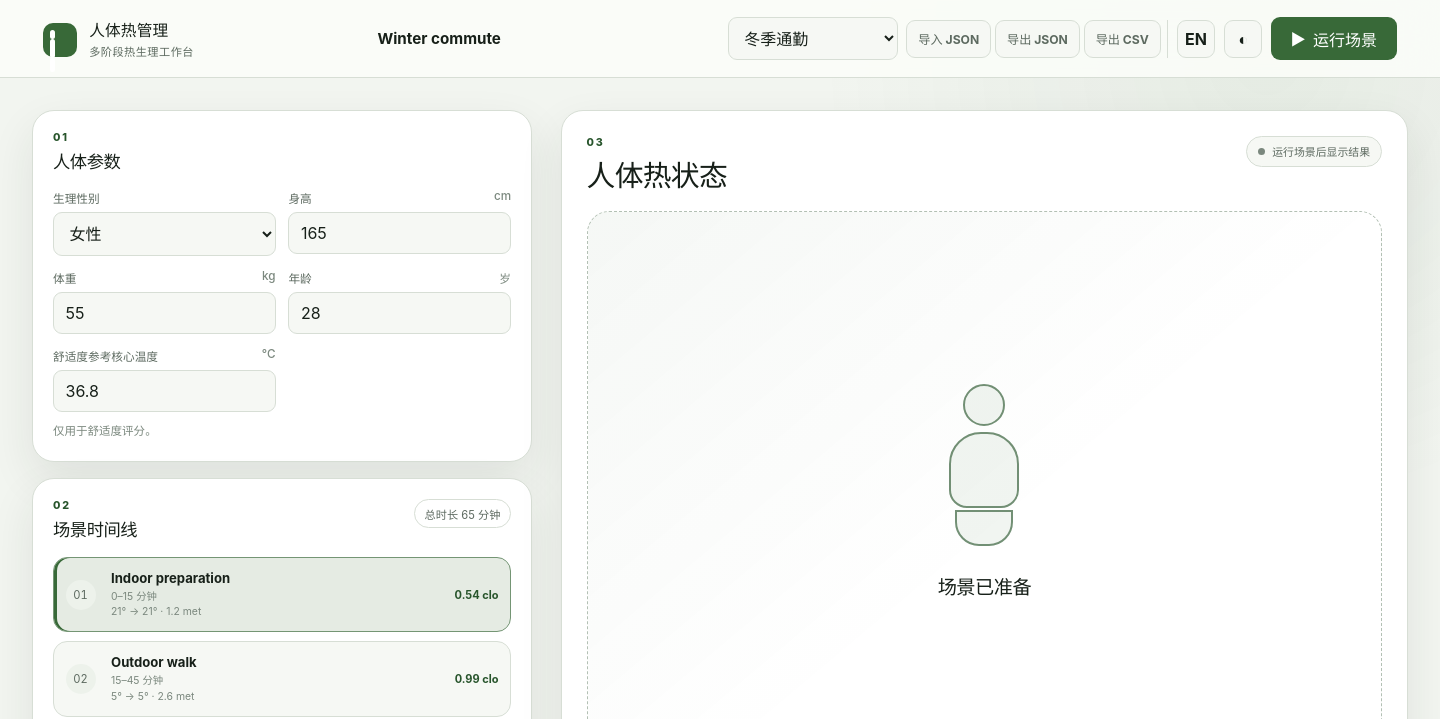
Test: App › keeps the last valid draft and disables actions while an edit is invalid
The image size is (1440, 719).
Clear the field named "场景名称" at (439, 38), box [279,18,599,60]
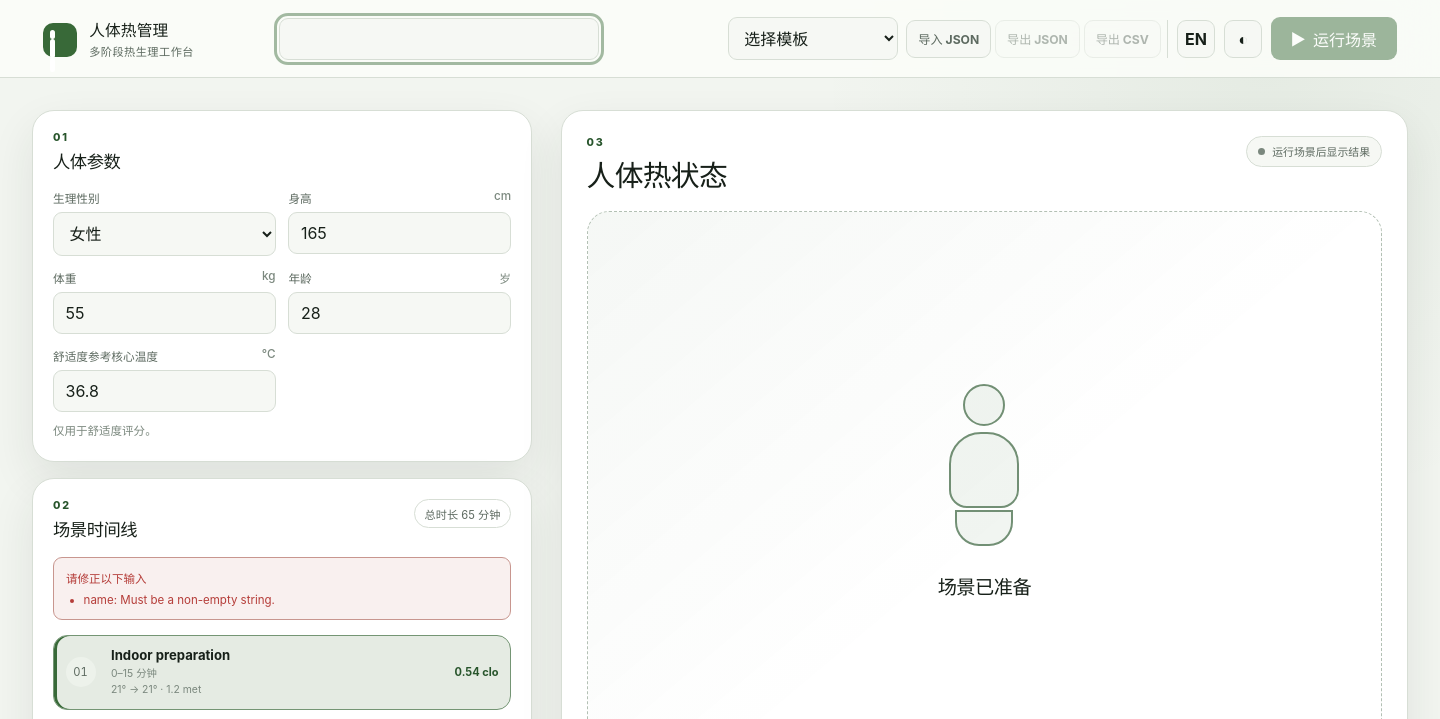
Result: the button "▶ 运行场景" is disabled at [1271,17,1397,60]
Result: the button "导出 JSON" is disabled at [995,20,1080,58]
Result: the button "导出 CSV" is disabled at [1084,20,1161,58]
